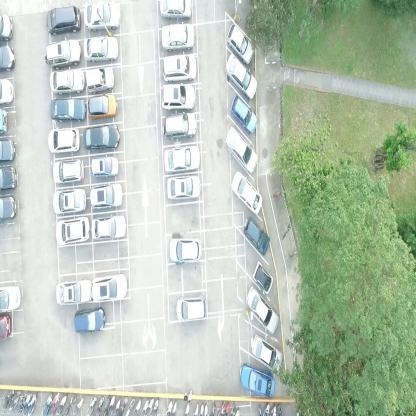car: (244, 283, 279, 334), (224, 124, 258, 174), (230, 169, 263, 215), (225, 54, 258, 99), (237, 362, 275, 400), (250, 333, 284, 374), (225, 19, 254, 65), (163, 142, 202, 175), (54, 212, 90, 247), (242, 213, 270, 256), (44, 38, 82, 69), (230, 94, 258, 135), (159, 82, 196, 113), (49, 67, 86, 97), (160, 55, 198, 83), (90, 275, 128, 303), (167, 235, 202, 265), (46, 6, 81, 36), (83, 35, 119, 64), (83, 2, 121, 29), (174, 294, 208, 324), (161, 22, 195, 52), (162, 112, 197, 140), (91, 213, 127, 240), (83, 124, 120, 150), (166, 176, 202, 202), (55, 280, 91, 306), (88, 183, 124, 209), (50, 96, 86, 122), (46, 127, 81, 153), (74, 306, 106, 334), (51, 189, 87, 213), (51, 159, 85, 184), (86, 64, 114, 94), (251, 260, 274, 294), (88, 94, 118, 120), (90, 154, 119, 179), (158, 0, 192, 21), (0, 284, 22, 311), (0, 43, 17, 71), (0, 166, 19, 191), (0, 11, 14, 44), (0, 78, 15, 106), (0, 195, 16, 221), (0, 137, 16, 161), (0, 313, 13, 339)
